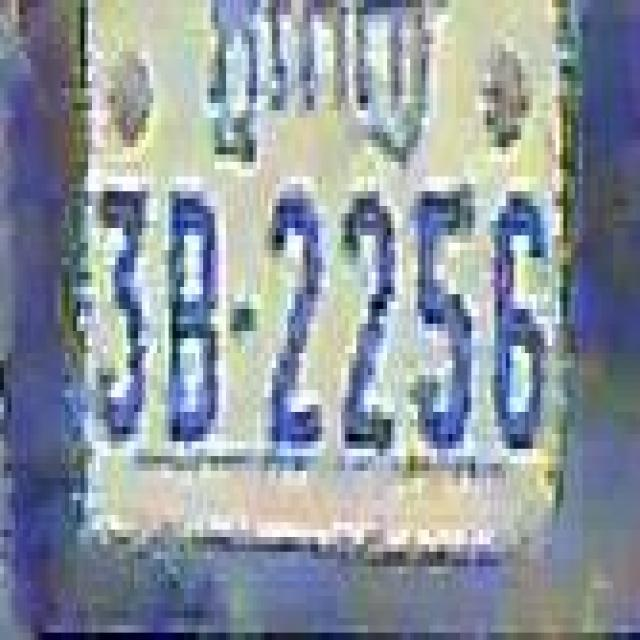Phnom_Penh: (211, 8, 432, 176)
